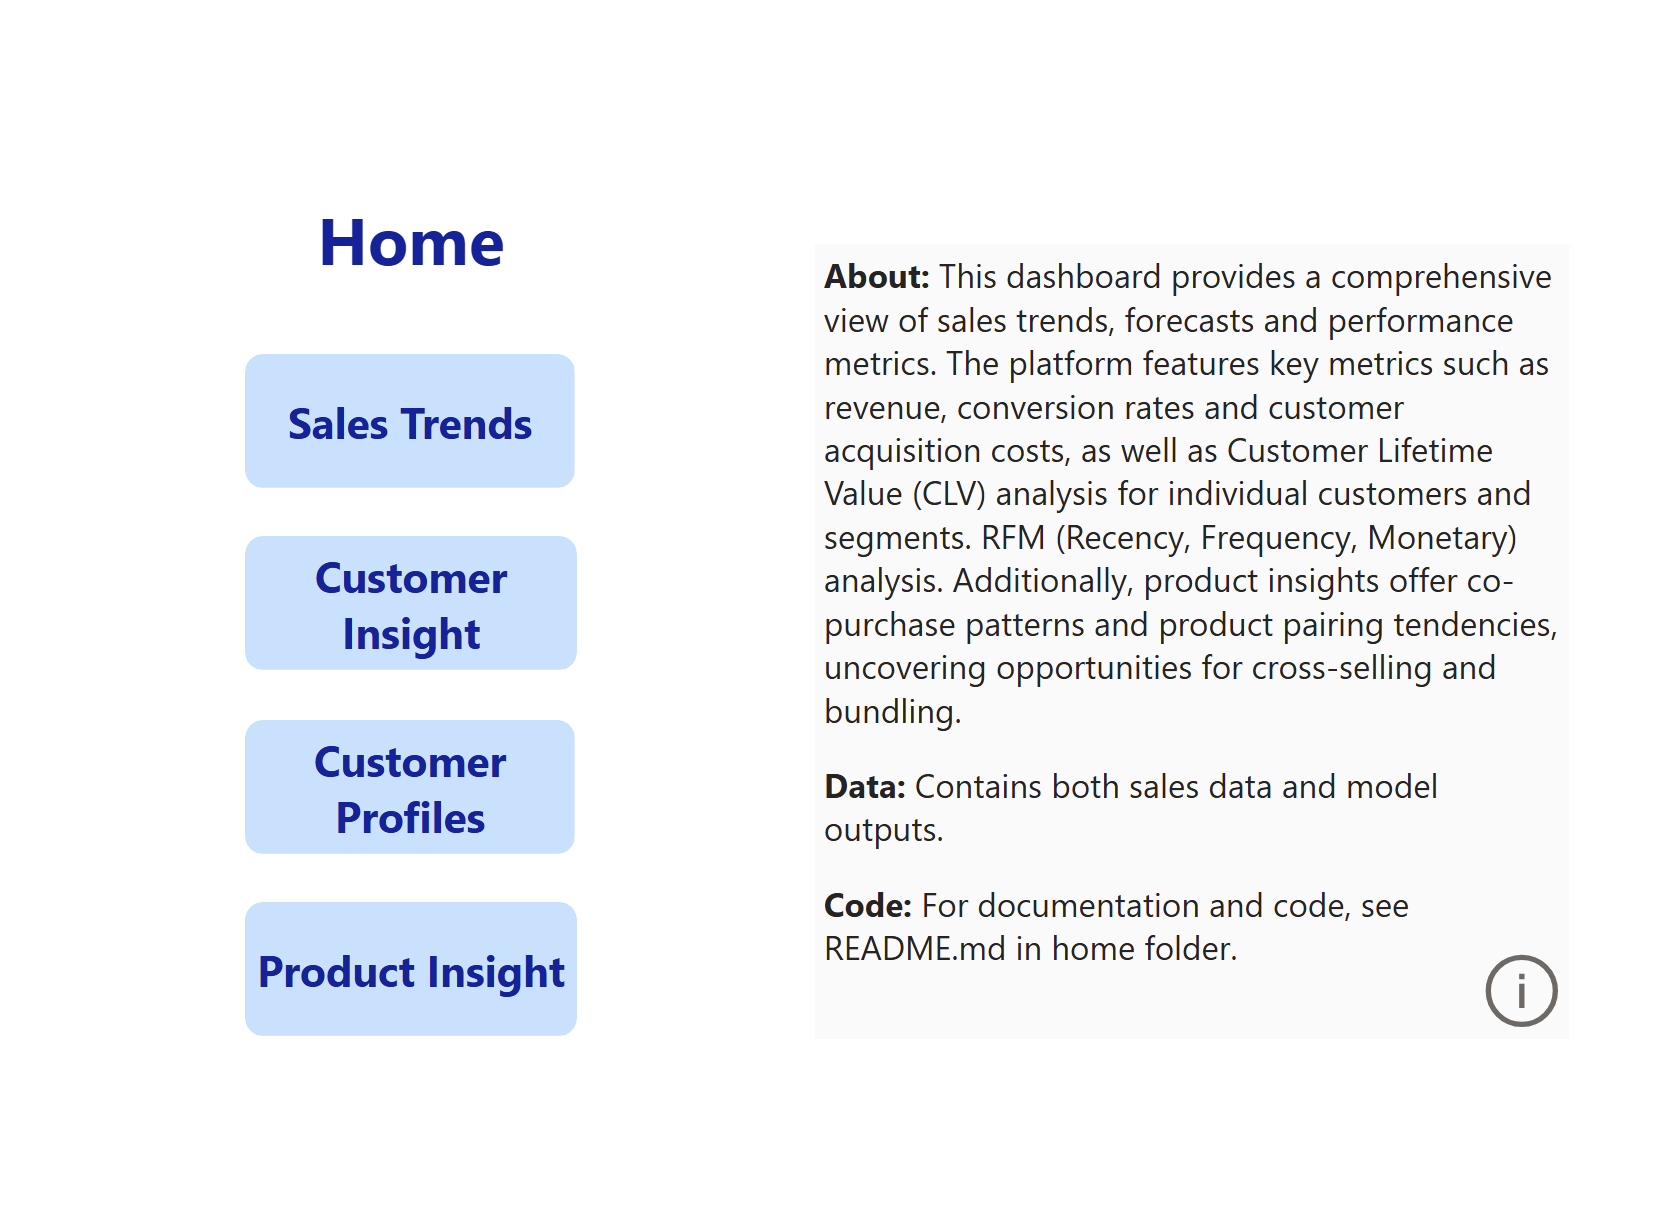

The page's visual inventory and layout, read from the dashboard file:
{"tool":"powerbi","page":{"name":"Home","canvas":[960,720],"ordinal":0},"visuals":[{"type":"actionButton","title":"Home","box":[140.1,207.6,186.2,75.6],"z":0},{"type":"actionButton","title":"Home","box":[139.5,310.9,187.3,75.6],"z":1000},{"type":"actionButton","title":"Home","box":[1022.5,659.9,170.4,39.9],"z":2000},{"type":"actionButton","title":"Home","box":[140.1,414.2,186.2,75.6],"z":3000},{"type":"actionButton","title":"Home","box":[139.5,517.4,187.3,75.6],"z":4000},{"type":"textbox","box":[94.4,111.2,277.6,68.8],"z":5000},{"type":"textbox","box":[461.4,145.7,425.7,448.6],"z":6000},{"type":"actionButton","box":[834.3,540,52.9,52.9],"z":7001}]}

Visuals, with their boxes in screenshot pixels (x1, y1, x2, y2), scaled from the page's 960x720 canvas onto the 1676x1226 screenshot:
"Home" actionButton: crop(245, 353, 570, 482)
"Home" actionButton: crop(244, 529, 571, 658)
"Home" actionButton: crop(245, 705, 570, 834)
"Home" actionButton: crop(244, 881, 571, 1010)
textbox: crop(165, 189, 649, 306)
textbox: crop(806, 248, 1549, 1012)
actionButton: crop(1457, 920, 1549, 1010)
